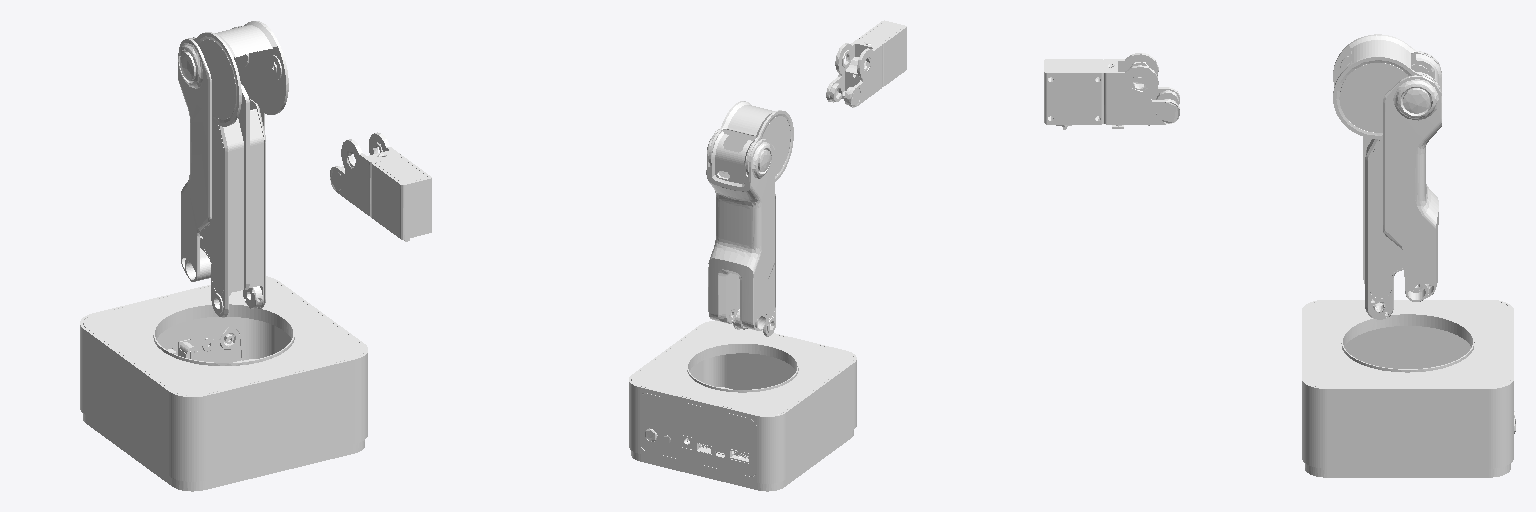
robot.urdf — dobbie:
<?xml version="1.0"?>
<robot name="dobbie">

  <!-- World and Base -->
  <link name="world"/>

  <link name="base">
    <inertial>
      <origin xyz="7.567392064132539e-05 0.004514279129206783 0.03887041668750017"
              rpy="-2.962441408225249 -1.5680409623316962 -1.7467263101041444"/>
      <mass value="3.5429520437434583"/>
      <inertia ixx="0.012838754384041091" iyy="0.008071188964428357" izz="0.007383346397336186"
               ixy="0" ixz="0" iyz="0"/>
    </inertial>
    <visual name="base_mesh">
      <origin xyz="7.567392064132539e-05 0.004514279129206783 0.03887041668750017"
              rpy="-2.962441408225233 -1.5680409623316962 -1.7467263101041604"/>
      <geometry>
        <mesh filename="package://descy/meshes/base_mesh.stl"/>
      </geometry>
      <material name="white"/>
    </visual>
    <collision name="base_collision">
      <origin xyz="7.567392064132539e-05 0.004514279129206783 0.03887041668750017"
              rpy="-2.962441408225233 -1.5680409623316962 -1.7467263101041604"/>
      <geometry>
        <mesh filename="package://descy/meshes/base_mesh.stl"/>
      </geometry>
    </collision>
  </link>

  <joint name="world_to_base" type="fixed">
    <parent link="world"/>
    <child link="base"/>
    <origin xyz="0 0 0" rpy="0 0 0"/>
  </joint>

  <!-- Link 1 -->
  <link name="link1">
    <inertial>
      <origin xyz="-8.583630464704256e-06 0.007648649651831126 -0.014266912057221488"
              rpy="-1.5652545899663657 -1.518025120993771 -1.5759784889015487"/>
      <mass value="1.9846474678023103"/>
      <inertia ixx="0.005620062618842091" iyy="0.004247774127525234" izz="0.002315140293898488"
               ixy="0" ixz="0" iyz="0"/>
    </inertial>
    <visual name="link1_mesh">
      <origin xyz="-8.583630464704256e-06 0.007648649651831126 -0.014266912057221488"
              rpy="-1.5652545899663657 -1.518025120993771 -1.5759784889015487"/>
      <geometry>
        <mesh filename="package://descy/meshes/link1_mesh.stl"/>
      </geometry>
      <material name="white"/>
    </visual>
    <collision name="link1_collision">
      <origin xyz="-8.583630464704256e-06 0.007648649651831126 -0.014266912057221488"
              rpy="-1.5652545899663657 -1.518025120993771 -1.5759784889015487"/>
      <geometry>
        <mesh filename="package://descy/meshes/link1_mesh.stl"/>
      </geometry>
    </collision>
  </link>

  <joint name="joint1" type="revolute">
    <parent link="base"/>
    <child link="link1"/>
    <origin xyz="0.0 0.0 0.12201" rpy="0.0 0.0 0.0"/>
    <axis xyz="0 0 1"/>
    <limit lower="-3.141592653589793" upper="3.141592653589793"
           effort="100" velocity="100"/>
  </joint>

  <!-- Link 2 -->
  <link name="link2">
    <inertial>
      <origin xyz="4.940319681255925e-05 -0.007261484107870785 0.09345555499374657"
              rpy="0.05365179981860117 -0.008747444451175257 0.06403379882506219"/>
      <mass value="0.8790832303613103"/>
      <inertia ixx="0.0024693054939380955" iyy="0.002436726201152135" izz="0.0003027233375120942"
               ixy="0" ixz="0" iyz="0"/>
    </inertial>
    <visual name="link2_mesh">
      <origin xyz="4.940319681255925e-05 -0.007261484107870785 0.09345555499374657"
              rpy="0.05365179981860117 -0.008747444451175479 0.06403379882506219"/>
      <geometry>
        <mesh filename="package://descy/meshes/link2_mesh.stl"/>
      </geometry>
      <material name="white"/>
    </visual>
    <collision name="link2_collision">
      <origin xyz="4.940319681255925e-05 -0.007261484107870785 0.09345555499374657"
              rpy="0.05365179981860117 -0.008747444451175479 0.06403379882506219"/>
      <geometry>
        <mesh filename="package://descy/meshes/link2_mesh.stl"/>
      </geometry>
    </collision>
  </link>

  <joint name="joint2" type="revolute">
    <parent link="link1"/>
    <child link="link2"/>
    <origin xyz="0.0 0.0 0.0" rpy="0.0 0.0 0.0"/>
    <axis xyz="1 0 0"/>
    <limit lower="-3.141592653589793" upper="3.141592653589793"
           effort="100" velocity="100"/>
  </joint>

  <!-- Link 3 -->
  <link name="link3">
    <inertial>
      <origin xyz="3.566404692852132e-06 -0.0649863487859142 0.008036945726251493"
              rpy="1.6580773132277526 0.00011419959347480635 0.00016929457412240279"/>
      <mass value="0.5913958726933283"/>
      <inertia ixx="0.002591101562997314" iyy="0.002498226592441781" izz="0.00015818569588658005"
               ixy="0" ixz="0" iyz="0"/>
    </inertial>
    <visual name="link3_mesh">
      <origin xyz="3.566404692852132e-06 -0.0649863487859142 0.008036945726251493"
              rpy="1.6580773132277526 0.00011419959347480635 0.00016929457412240279"/>
      <geometry>
        <mesh filename="package://descy/meshes/link3_mesh.stl"/>
      </geometry>
      <material name="white"/>
    </visual>
    <collision name="link3_collision">
      <origin xyz="3.566404692852132e-06 -0.0649863487859142 0.008036945726251493"
              rpy="1.6580773132277526 0.00011419959347480635 0.00016929457412240279"/>
      <geometry>
        <mesh filename="package://descy/meshes/link3_mesh.stl"/>
      </geometry>
    </collision>
  </link>

  <joint name="joint3" type="revolute">
    <parent link="link2"/>
    <child link="link3"/>
    <origin xyz="0.0 -0.02 0.15" rpy="0.0 0.0 0.0"/>
    <axis xyz="1 0 0"/>
    <limit lower="-3.141592653589793" upper="3.141592653589793"
           effort="100" velocity="100"/>
  </joint>

  <!-- Link 4 -->
  <link name="link4">
    <inertial>
      <origin xyz="8.542424324572279e-06 -0.03411307078902251 -0.006038689095171135"
              rpy="1.388108688290901 0.003921029036773049 0.0007426984677867399"/>
      <mass value="0.22945401433140447"/>
      <inertia ixx="0.00013556439721052258" iyy="0.00011891655632190785" izz="3.1403774184215085e-05"
               ixy="0" ixz="0" iyz="0"/>
    </inertial>
    <visual name="link4_mesh">
      <origin xyz="8.542424324572279e-06 -0.03411307078902251 -0.006038689095171135"
              rpy="1.3881086882909015 0.003921029036773049 0.0007426984677866288"/>
      <geometry>
        <mesh filename="package://descy/meshes/link4_mesh.stl"/>
      </geometry>
      <material name="white"/>
    </visual>
    <collision name="link4_collision">
      <origin xyz="8.542424324572279e-06 -0.03411307078902251 -0.006038689095171135"
              rpy="1.3881086882909015 0.003921029036773049 0.0007426984677866288"/>
      <geometry>
        <mesh filename="package://descy/meshes/link4_mesh.stl"/>
      </geometry>
    </collision>
  </link>

  <joint name="joint4" type="revolute">
    <parent link="link3"/>
    <child link="link4"/>
    <origin xyz="0.0 -0.165 0.0" rpy="0.0 0.0 0.0"/>
    <axis xyz="1 0 0"/>
    <limit lower="-3.141592653589793" upper="3.141592653589793"
           effort="100" velocity="100"/>
  </joint>

  <!-- Link 5 -->
  <link name="link5">
    <inertial>
      <origin xyz="-8.670593571825924e-06 -0.002949778371189593 -0.06210356829321821"
              rpy="-0.03931949901759166 5.812106912839177e-05 0.011601086068503979"/>
      <mass value="0.12358713538666422"/>
      <inertia ixx="3.518546253434828e-05" iyy="3.5005956525548805e-05" izz="2.874470587320804e-05"
               ixy="0" ixz="0" iyz="0"/>
    </inertial>
    <visual name="link5_mesh">
      <origin xyz="-8.670593571825924e-06 -0.002949778371189593 -0.06210356829321821"
              rpy="-0.03931949901759166 5.812106912839177e-05 0.011601086068503979"/>
      <geometry>
        <mesh filename="package://descy/meshes/link5_mesh.stl"/>
      </geometry>
      <material name="white"/>
    </visual>
    <collision name="link5_collision">
      <origin xyz="-8.670593571825924e-06 -0.002949778371189593 -0.06210356829321821"
              rpy="-0.03931949901759166 5.812106912839177e-05 0.011601086068503979"/>
      <geometry>
        <mesh filename="package://descy/meshes/link5_mesh.stl"/>
      </geometry>
    </collision>
  </link>

  <joint name="joint5" type="revolute">
    <parent link="link4"/>
    <child link="link5"/>
    <origin xyz="0.0 -0.055 0.0" rpy="0.0 0.0 0.0"/>
    <axis xyz="0 0 1"/>
    <limit lower="-3.141592653589793" upper="3.141592653589793"
           effort="100" velocity="100"/>
  </joint>

  <!-- Material Definition -->
  <material name="white">
    <color rgba="1 1 1 1"/>
  </material>

  <!-- Gazebo Plugin -->
  <gazebo>
    <plugin name="gazebo_ros_control" filename="libgazebo_ros_control.so">
      <robotNamespace>/dobbie</robotNamespace>
    </plugin>
  </gazebo>

  <!-- ros2_control configuration -->
  <ros2_control name="descy_controller" type="system">
    <hardware>
      <plugin>ros2_control_sim/fake_system</plugin>
      <param name="update_rate" value="100.0" />
    </hardware>
    <joint name="joint1">
      <command_interface type="position"/>
      <state_interface type="position"/>
    </joint>
    <joint name="joint2">
      <command_interface type="position"/>
      <state_interface type="position"/>
    </joint>
    <joint name="joint3">
      <command_interface type="position"/>
      <state_interface type="position"/>
    </joint>
    <joint name="joint4">
      <command_interface type="position"/>
      <state_interface type="position"/>
    </joint>
    <joint name="joint5">
      <command_interface type="position"/>
      <state_interface type="position"/>
    </joint>
  </ros2_control>

</robot>

--- What the picture shows (computed from the rendered views, not written in the file) ---
3 views of the same robot in one strip: view 1: azimuth 30°, elevation 25°; view 2: azimuth 150°, elevation 25°; view 3: azimuth 270°, elevation 25° (orthographic).
Model dobbie with 7 links and 6 joints (5 revolute, 1 fixed), rooted at world, posed every joint at zero.
Visible links, largest first — view 1: base, link2, link4; view 2: base, link2, link4; view 3: base, link2, link4.
Link boxes in pixels (x1,y1,x2,y2): base: (80,276,367,491); link2: (178,21,288,317); link4: (330,132,431,241); base: (629,321,856,491); link2: (706,101,793,336); link4: (826,20,906,107); base: (1302,300,1515,477); link2: (1333,34,1441,319); link4: (1044,53,1179,129).
Bounding box of the posed robot: 0.15 × 0.333 × 0.304 m (x, y, z).
3 mesh visuals loaded from 6 distinct referenced files (3 binary STL); not drawn: 3 (file found but could not be loaded).
